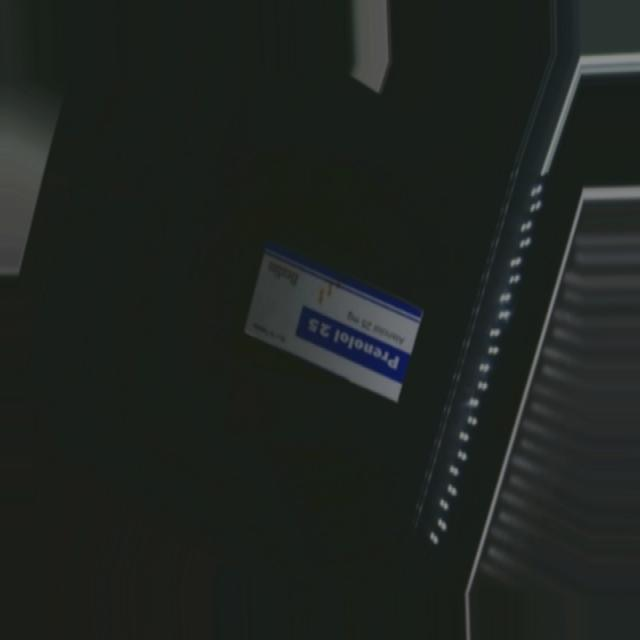prenolol: (230, 247, 434, 404)
